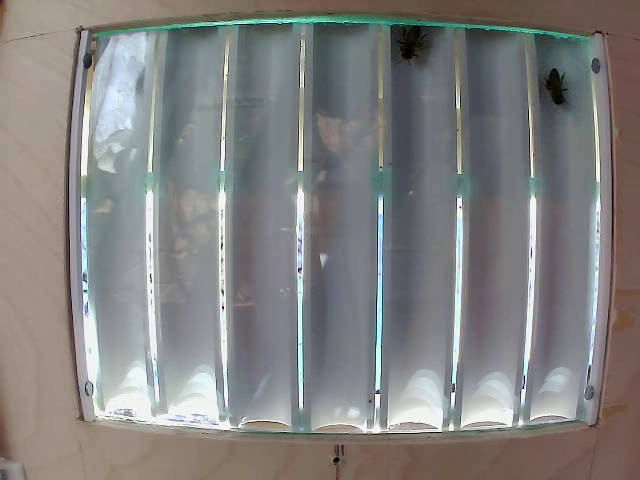bee: (533, 82, 575, 104)
